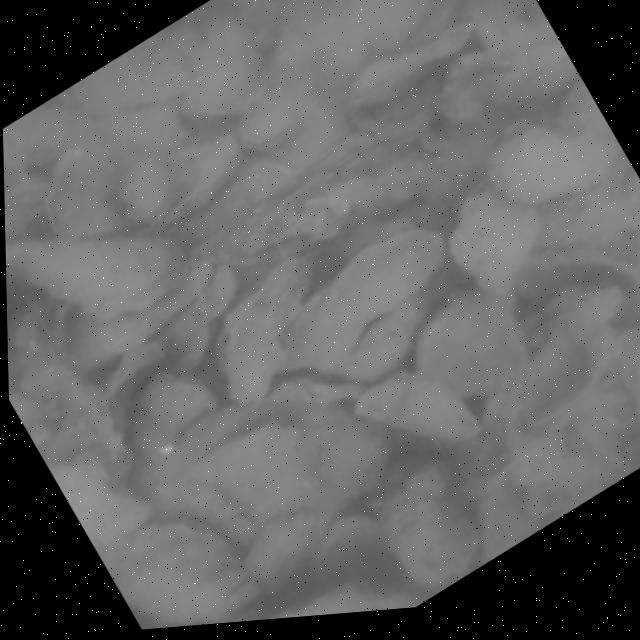Oyster-Closed: (347, 16, 483, 110), (533, 278, 627, 348), (235, 98, 302, 151)
Oyster-Indeterminate: (285, 229, 444, 366), (70, 253, 216, 369), (112, 517, 259, 624), (6, 235, 187, 316), (370, 457, 479, 587), (222, 251, 314, 403), (181, 427, 331, 518), (413, 293, 527, 396), (148, 124, 242, 232), (445, 189, 541, 290), (354, 372, 481, 447), (47, 466, 159, 549), (488, 127, 608, 201), (342, 293, 435, 382), (189, 13, 267, 110), (48, 150, 130, 239), (129, 373, 221, 450), (250, 508, 326, 593), (329, 0, 439, 57), (3, 102, 101, 165), (315, 418, 389, 496), (273, 582, 422, 619), (119, 152, 172, 224)
Oyster-Open: (260, 362, 360, 404)
